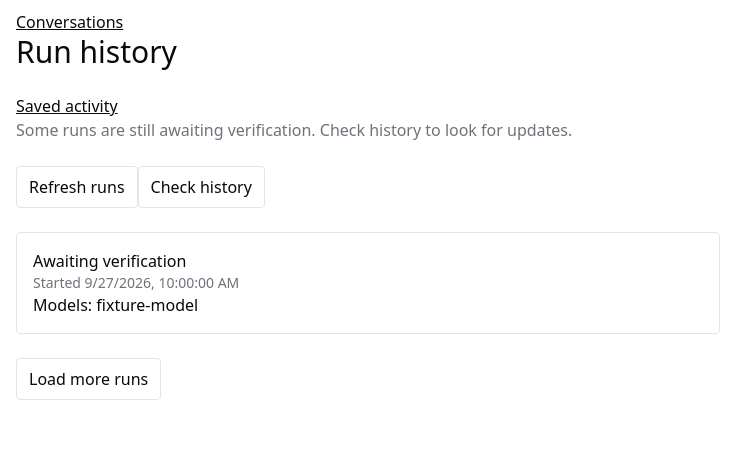
Test: keeps saved runs visible when verification fails and deduplicates paginated rows
This screenshot has width=737, height=465.
Expected: the text "Models: fixture-model" is shown, [33,294,198,316]
Click the button "Check history" at (201, 187), box [138,166,265,208]
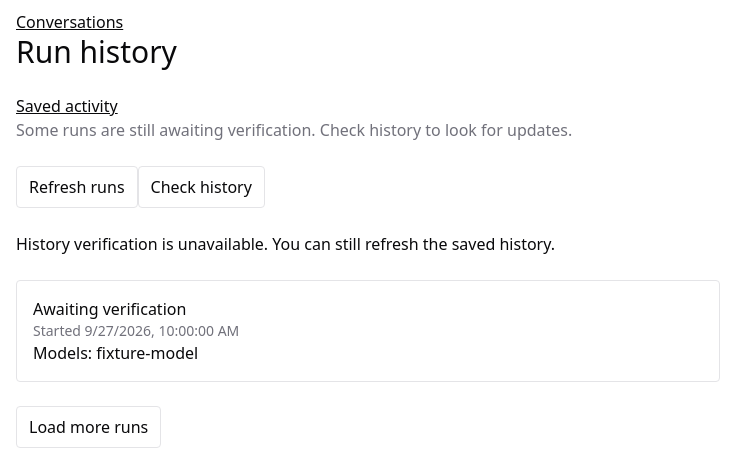
Expected: the text "Models: fixture-model" is shown, [33,342,198,364]
Expected: the message shows "verification is unavailable", [16,233,555,255]
Click the button "Load more runs" at (89, 427), box [16,406,161,448]
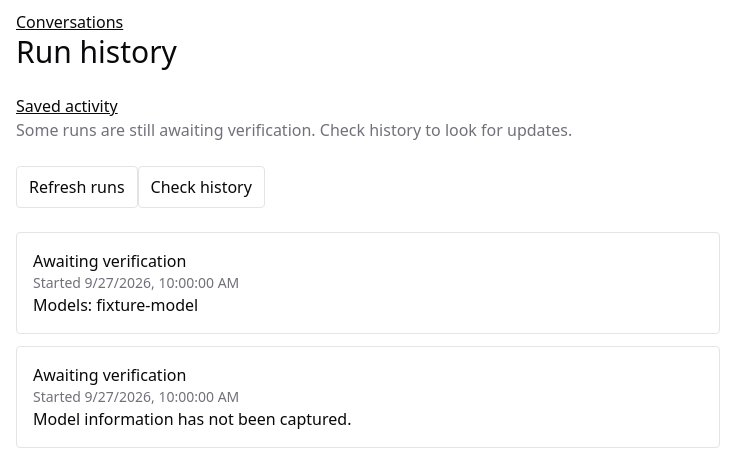
Expected: the text "Model information has not been captured." is shown, [33,408,352,430]
Expected: the number of list items is 2, [16,232,720,334]; [16,346,720,448]
